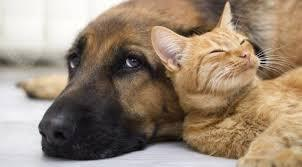anjing: (25, 4, 173, 164)
kucing: (159, 0, 281, 157)
